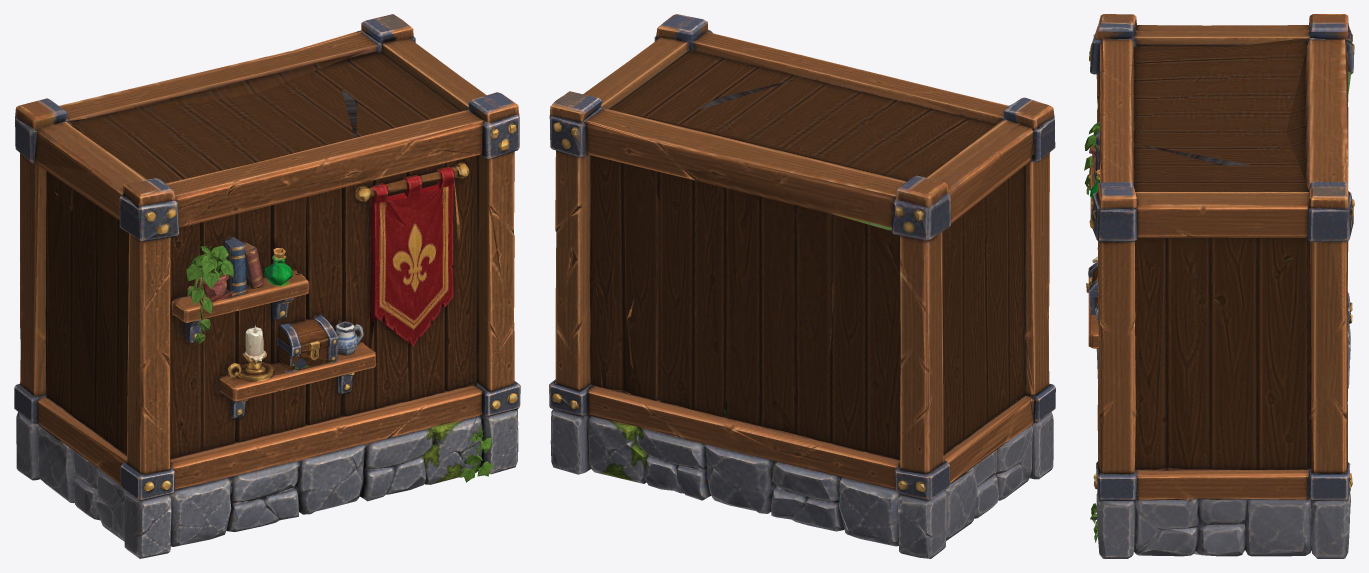
File: wall_plain_3.glb
The picture shows the model from 3 angles, left to right: view 1: azimuth 30°, elevation 25°; view 2: azimuth 150°, elevation 25°; view 3: azimuth 270°, elevation 25°; orthographic projection.
Parts seen in each view (by area): view 1: output_unwrapped; view 2: output_unwrapped; view 3: output_unwrapped.
Part boxes in pixels (x1,y1,x2,y2): output_unwrapped: (14,14,520,558); output_unwrapped: (549,14,1055,558); output_unwrapped: (1084,14,1354,558).
Size of the model in its own units: 1.9 by 1.72 by 1.16.
Materials: 1 (1 with a texture image).
